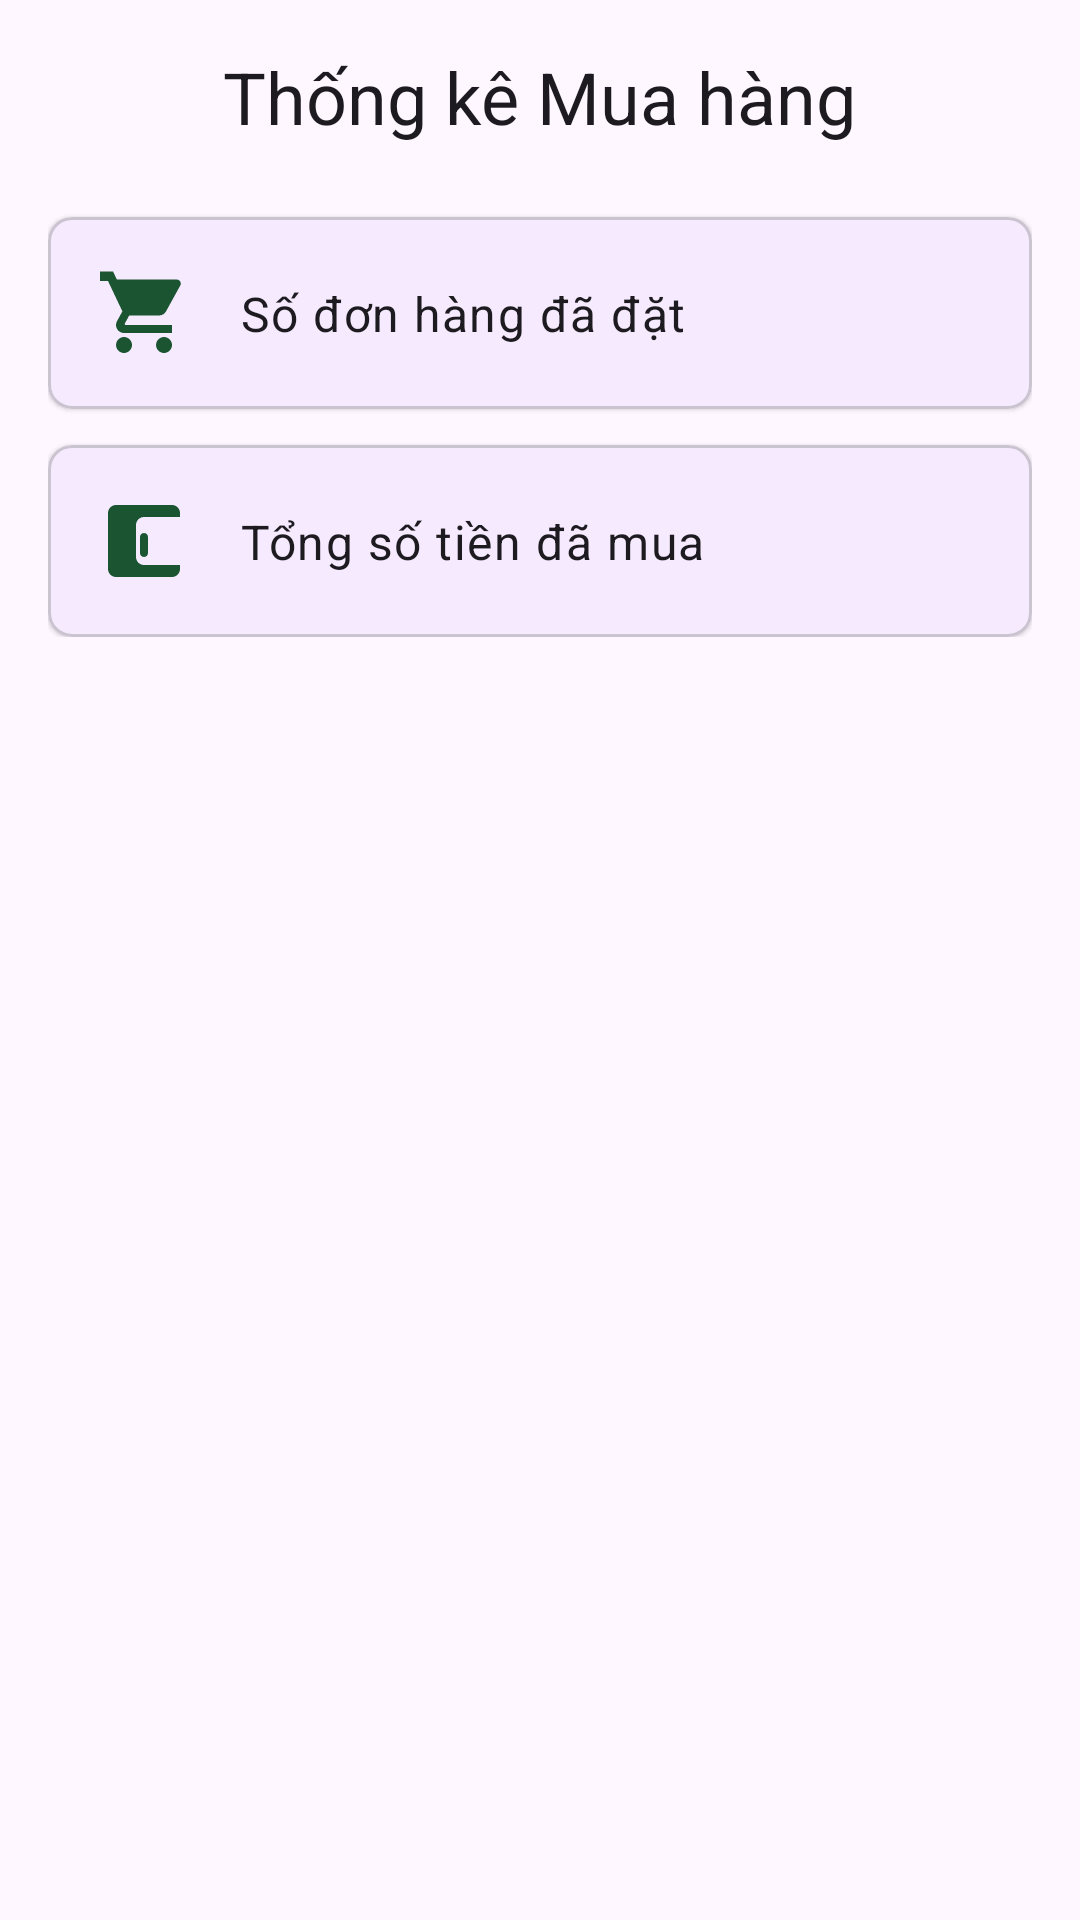

Icons on this 1080*1920 Android screen, each with its box as (x1, y1, x2, y2):
shopping cart: (100, 271, 181, 353)
wallet: (108, 505, 180, 577)
